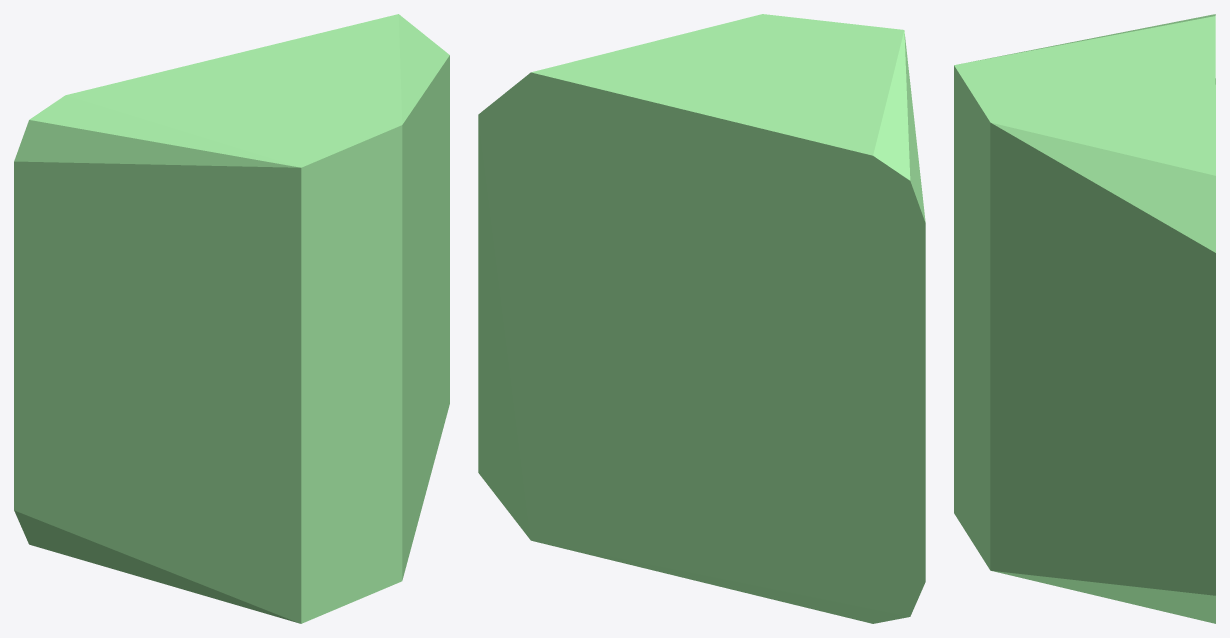
File: dvkr_robot_Lp1_respondable_PSM1_coll_5.dae
3 renders of one model, left to right at view 1: azimuth 30°, elevation 25°; view 2: azimuth 150°, elevation 25°; view 3: azimuth 270°, elevation 25°, orthographic. The views are drawn at different scales.
Parts seen in each view (by area): view 1: Node_0000023514CD8970; view 2: Node_0000023514CD8970; view 3: Node_0000023514CD8970.
Part boxes in pixels (x1=…): Node_0000023514CD8970: x1=14, y1=14, x2=449, y2=623; Node_0000023514CD8970: x1=478, y1=14, x2=925, y2=623; Node_0000023514CD8970: x1=954, y1=14, x2=1215, y2=623.
Size of the model in its own units: 0.017 by 0.017 by 0.00901.
